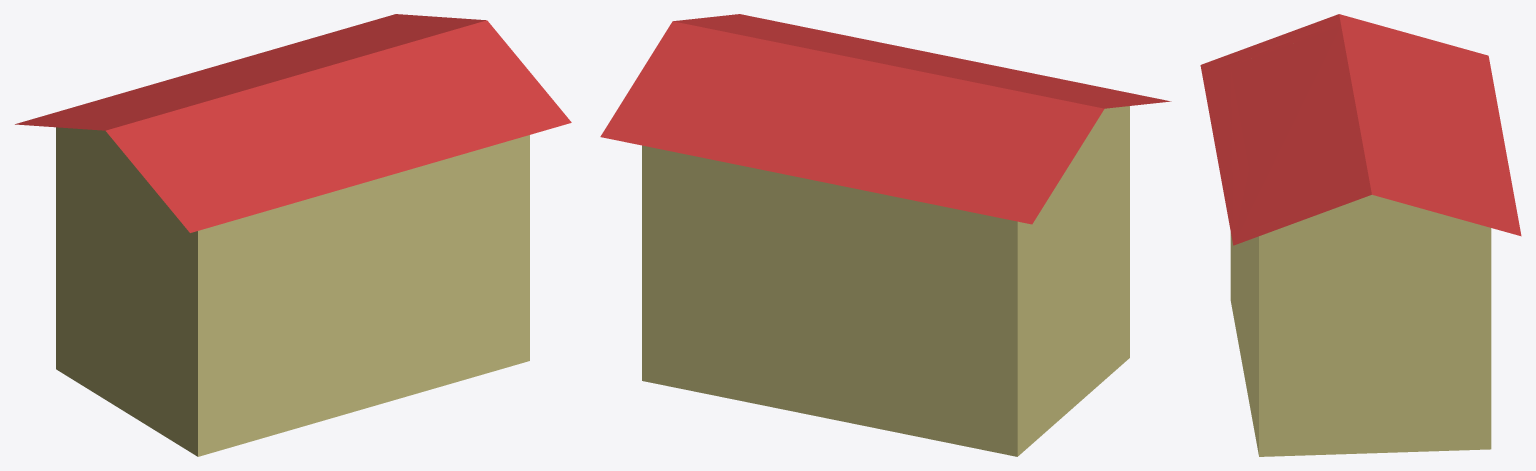
The picture shows the model from 3 angles, left to right: view 1: azimuth 30°, elevation 25°; view 2: azimuth 150°, elevation 25°; view 3: azimuth 270°, elevation 25°; orthographic projection. The views are drawn at different scales.
Size of the model in its own units: 16.04 by 11.45 by 10.64.
